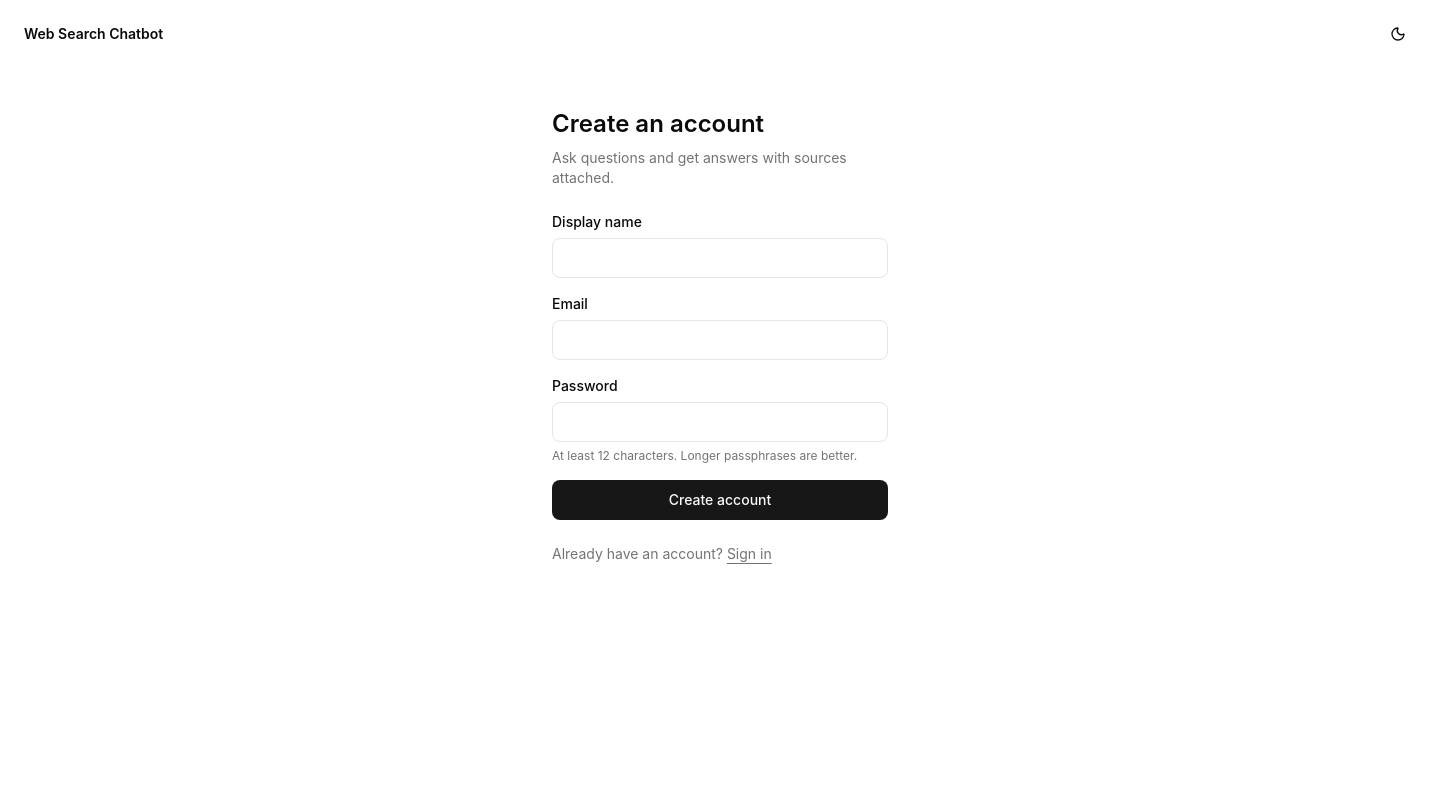
Test case: registration form › surfaces server field errors from a 422
Check: the heading "Create an account" is shown, box [552,109,764,138]
Type "Test User" into the field labelled "Display name" at (720, 258), box [552,238,888,278]
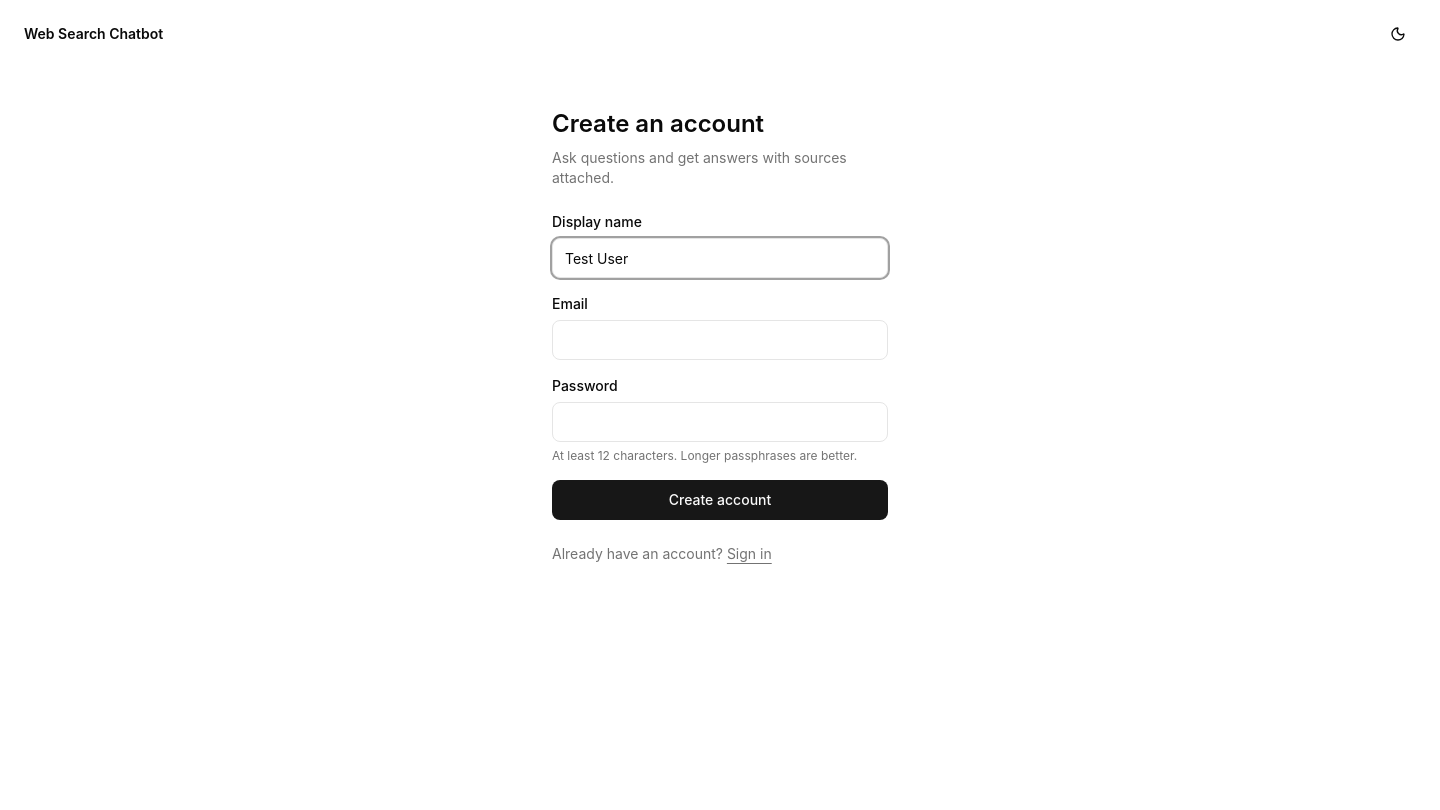
Type "user@example.com" into the field labelled "Email" at (720, 340), box [552,320,888,360]
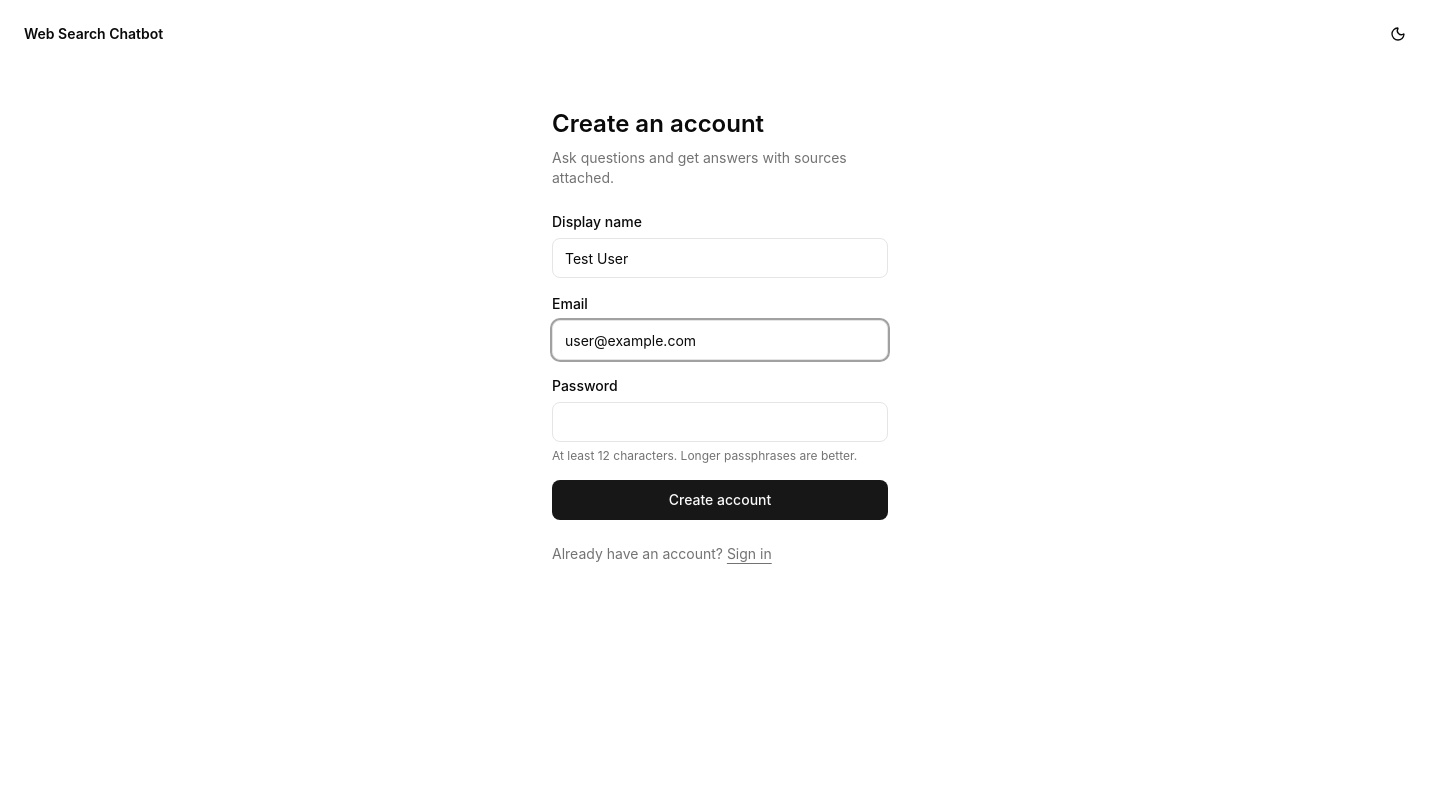
Type "correct-horse-battery-staple" into the password field labelled "Password" at (720, 422), box [552,402,888,442]
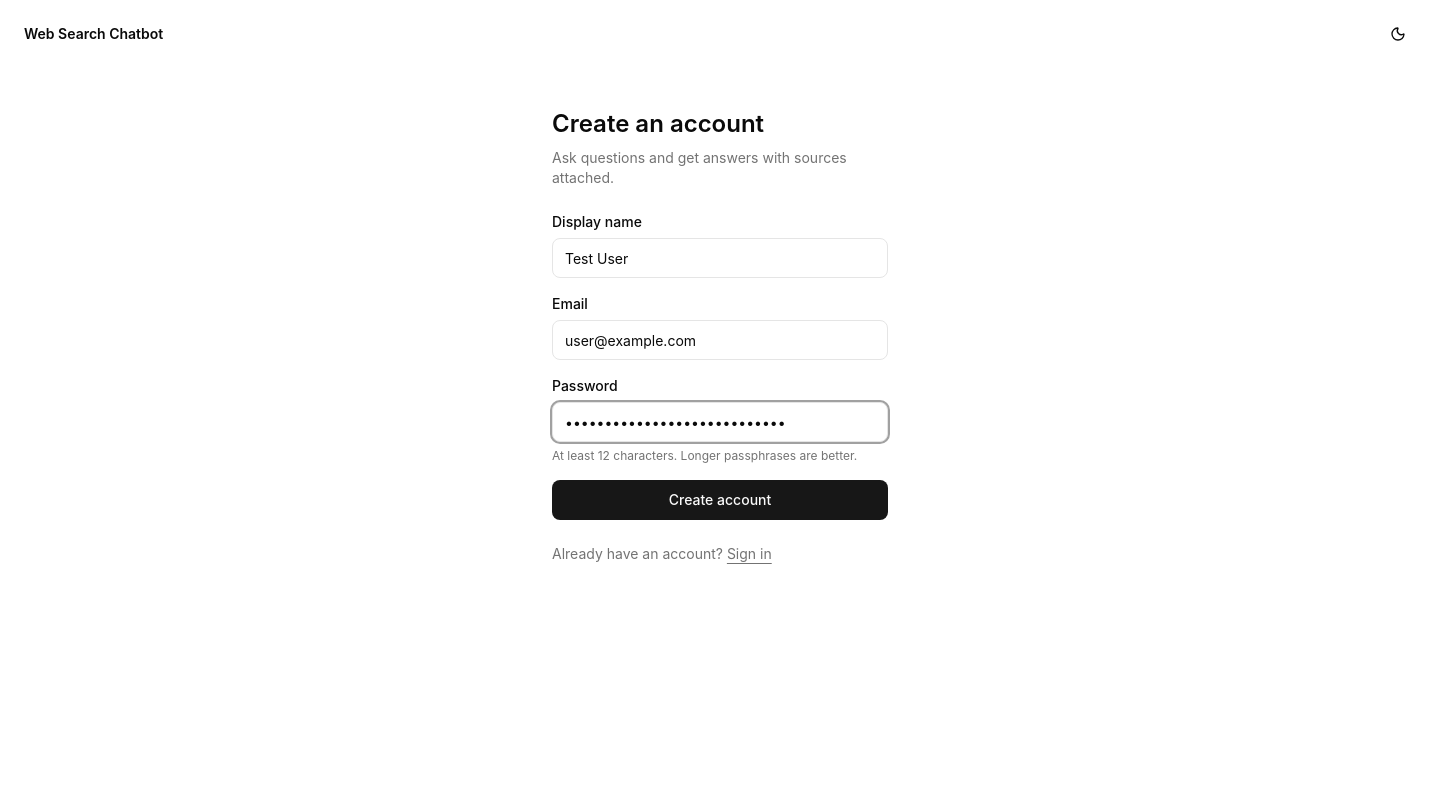
Click the button "Create account" at (720, 500), box [552,480,888,520]
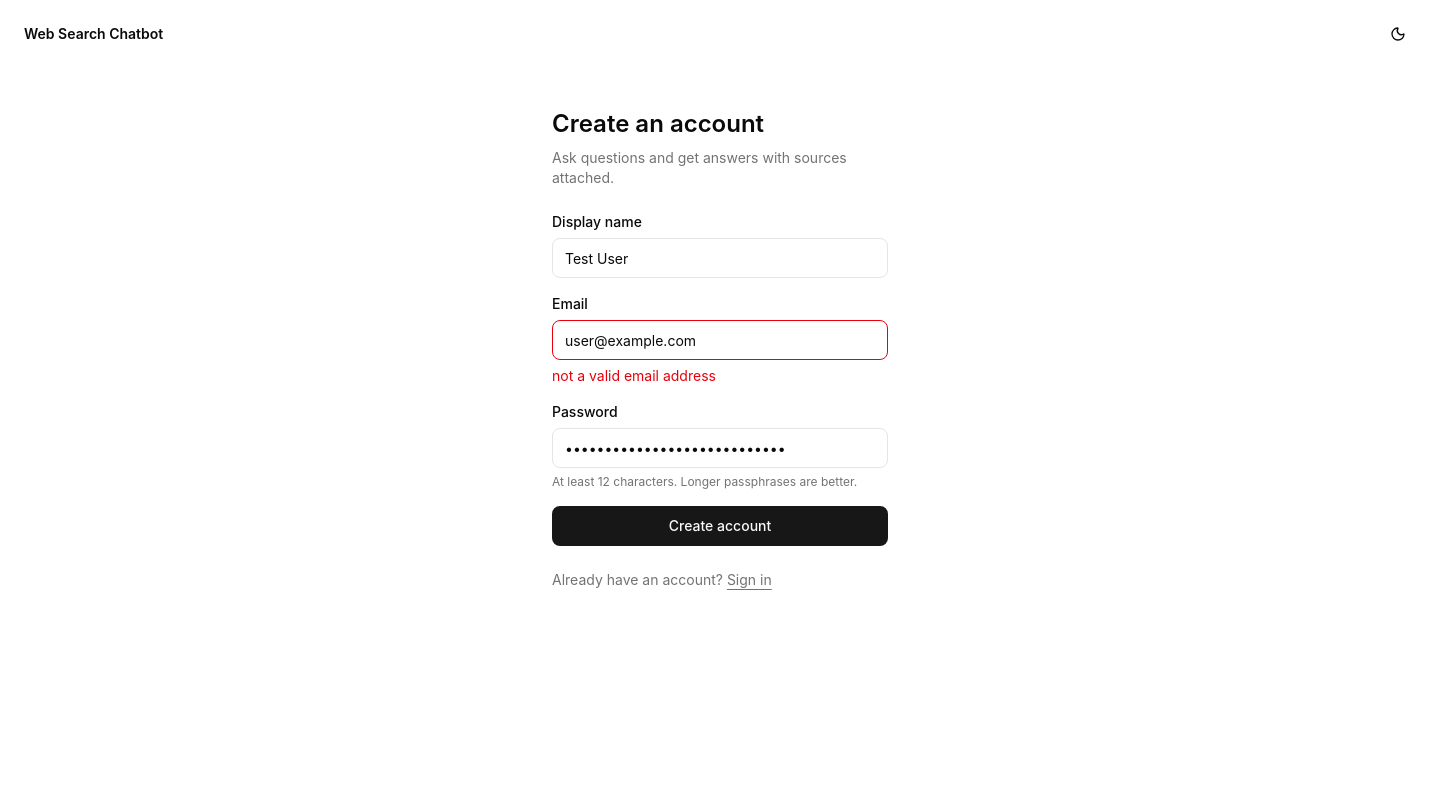
Check: the text "not a valid email address" is shown, box [552,367,716,384]
